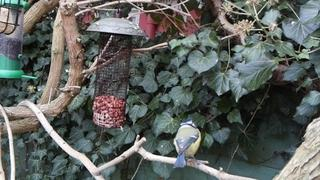blue tit: (173, 119, 201, 168)
